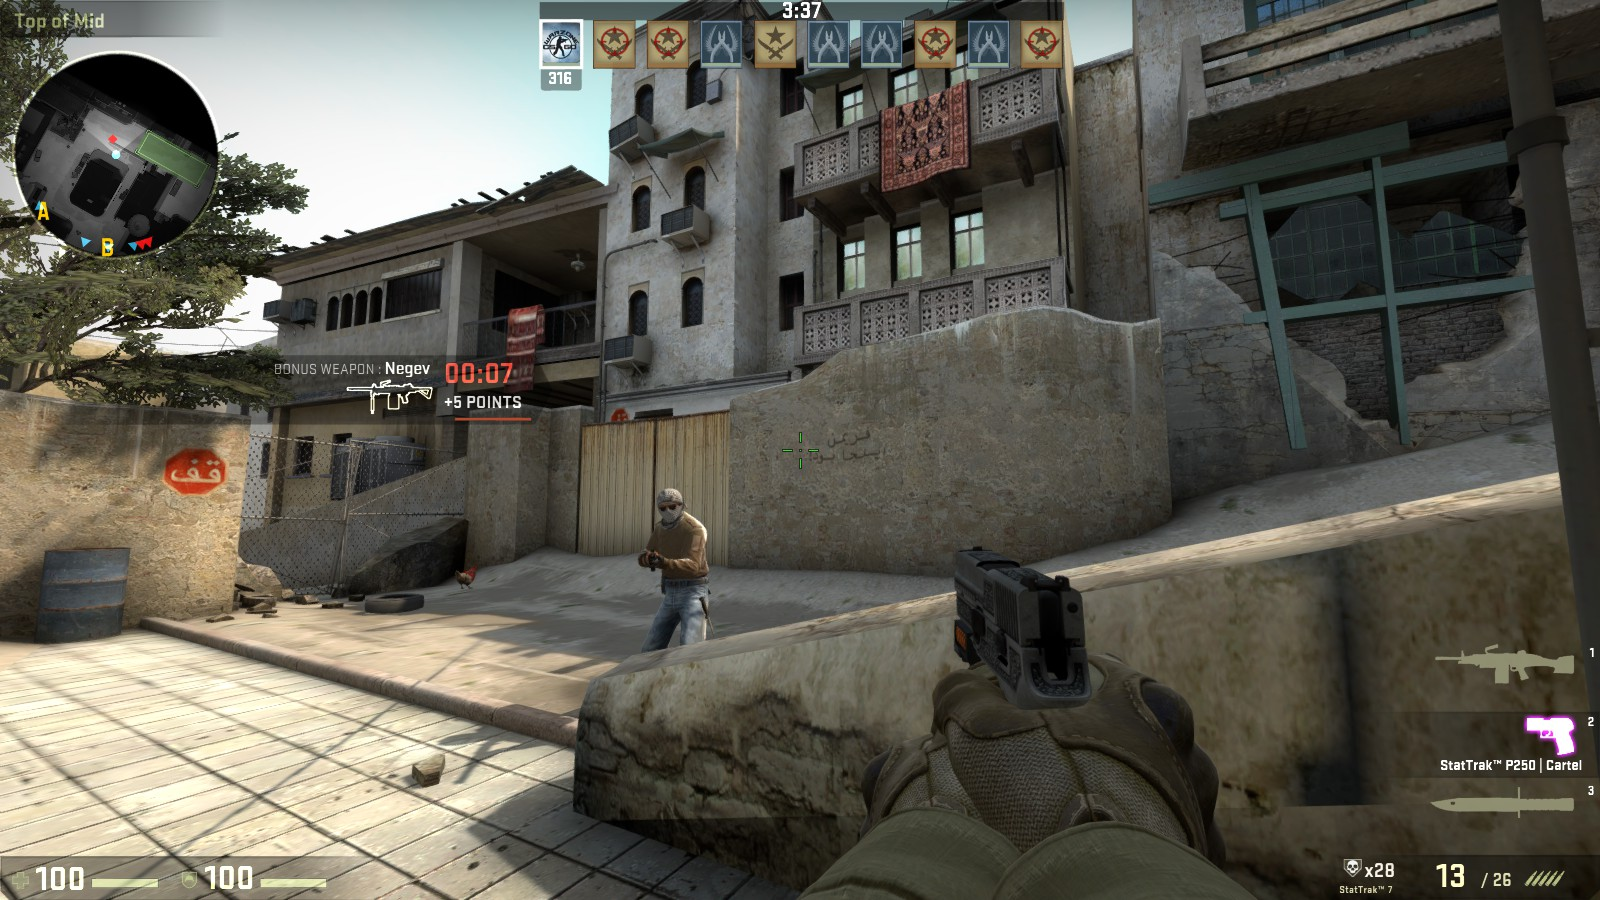t: (638, 489, 709, 649)
th: (651, 485, 685, 527)
